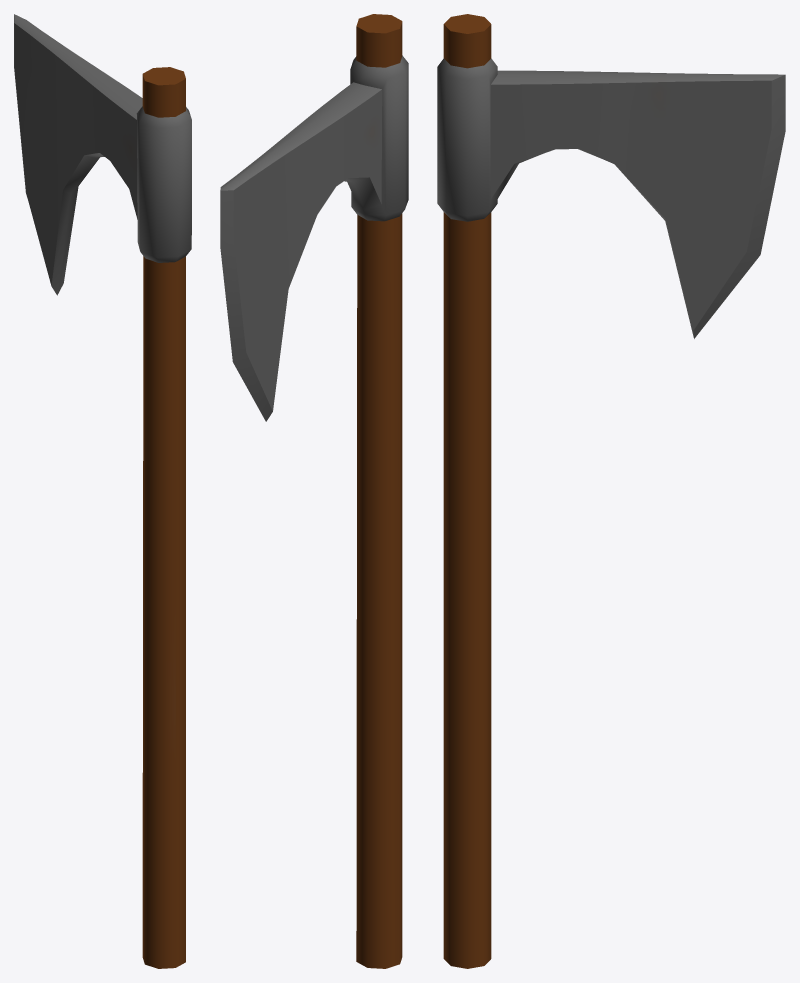
Rendered from Axe.fbx.
3 views of the same model, side by side, from view 1: azimuth 30°, elevation 25°; view 2: azimuth 150°, elevation 25°; view 3: azimuth 270°, elevation 25° (orthographic). The views are drawn at different scales.
Parts seen in each view (by area): view 1: Axe; view 2: Axe; view 3: Axe.
Part boxes in pixels (x1,y1,x2,y2): Axe: (14, 14, 191, 968); Axe: (220, 14, 408, 968); Axe: (437, 14, 785, 968).
Bounding box in the file's own units: 0.076 × 0.4388 × 1.3.
